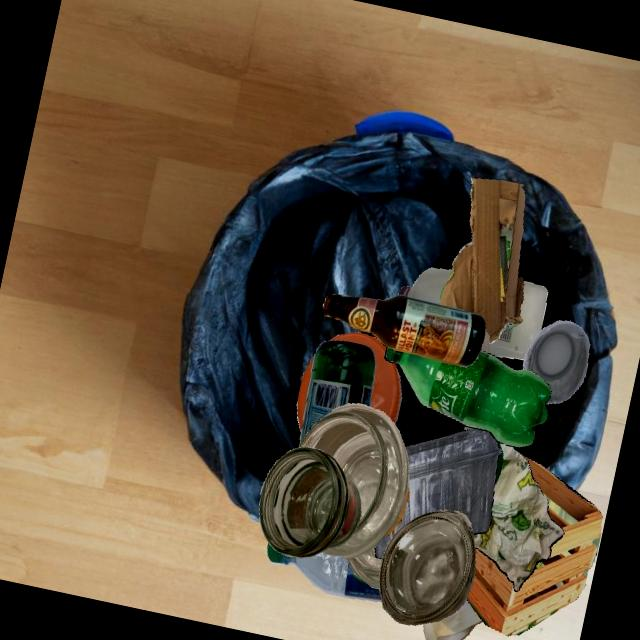biowaste: (384, 486, 409, 535)
cardboard: (439, 177, 524, 344)
combustible waste: (466, 454, 602, 635)
glass: (298, 403, 408, 558), (323, 293, 485, 367), (379, 509, 475, 625), (259, 447, 360, 557), (298, 340, 375, 447), (346, 546, 381, 589), (480, 330, 489, 353)
paper: (472, 443, 564, 591), (423, 599, 482, 640)
plastic: (384, 347, 551, 448), (374, 428, 501, 559), (266, 542, 381, 602), (327, 332, 401, 424), (523, 320, 589, 404), (489, 280, 547, 359), (397, 267, 452, 304), (494, 441, 502, 484)
